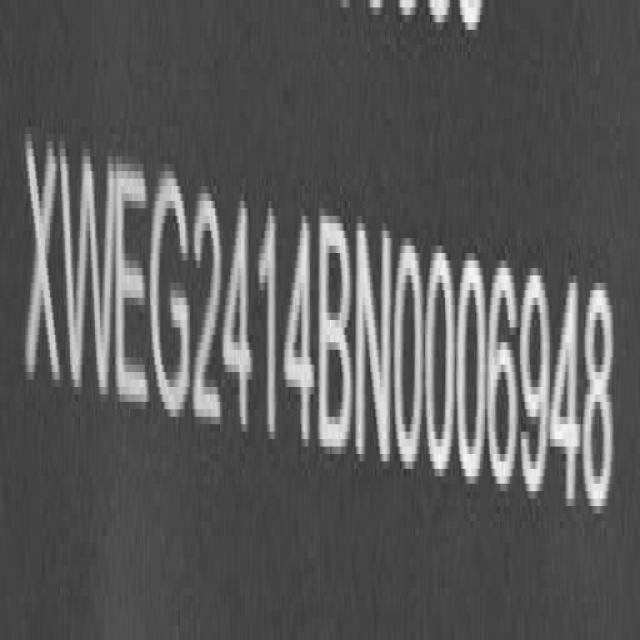0: (455, 238, 488, 489), (393, 227, 424, 475), (425, 233, 455, 483)
1: (258, 192, 279, 446)
2: (194, 179, 227, 441)
4: (222, 188, 255, 448), (285, 203, 317, 462), (552, 274, 584, 514)
6: (488, 256, 522, 496)
8: (585, 276, 621, 521)
9: (520, 268, 550, 504)
B: (319, 207, 354, 467)
E: (116, 145, 152, 424)
G: (151, 155, 193, 426)
N: (355, 207, 392, 470)
W: (61, 136, 117, 415)
X: (24, 122, 62, 404)
